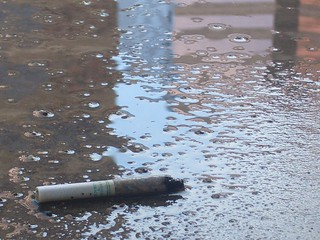cigarette: (33, 175, 190, 204)
